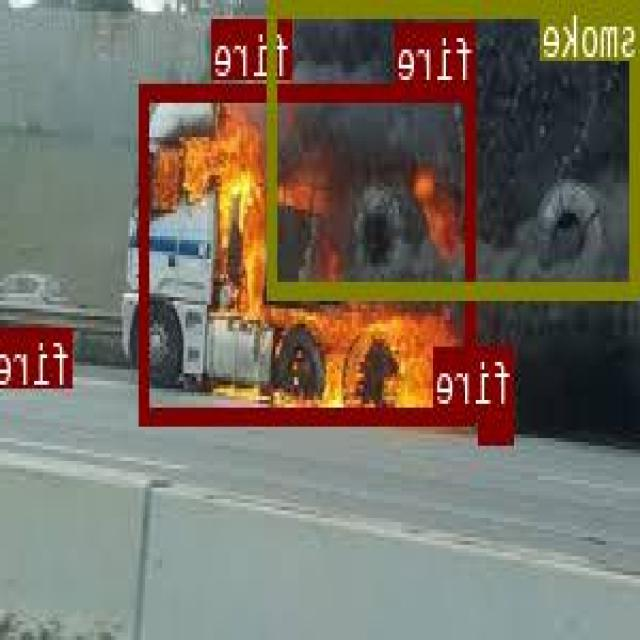fire: (141, 82, 476, 422), (21, 326, 74, 368), (262, 15, 294, 59), (482, 405, 516, 439)
smoke: (271, 0, 640, 297)
